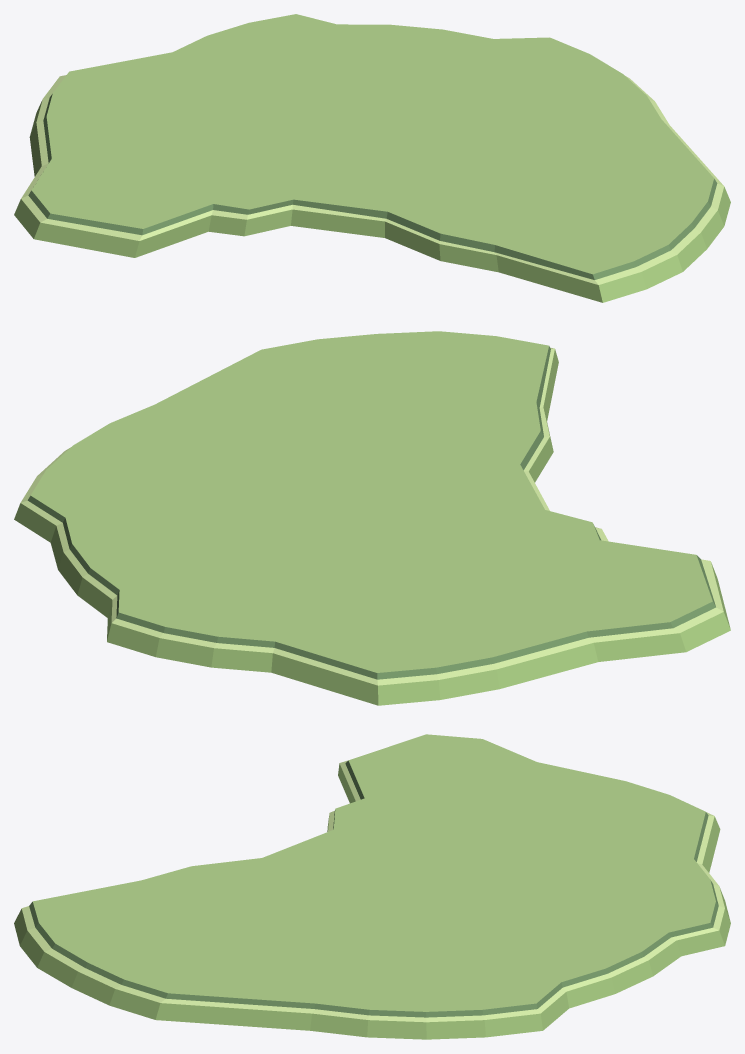
The model's file is groundPlatform1.fbx.
3 views of the same model, one above another, from view 1: azimuth 30°, elevation 25°; view 2: azimuth 150°, elevation 25°; view 3: azimuth 270°, elevation 25° (orthographic). The views are drawn at different scales.
Parts seen in each view (by area): view 1: Cylinder; view 2: Cylinder; view 3: Cylinder.
Part boxes in pixels (<box>): Cylinder: <box>14,14,730,302</box>; Cylinder: <box>14,331,730,705</box>; Cylinder: <box>14,734,730,1039</box>.
Size of the model in its own units: 1046 by 36.36 by 1087.
